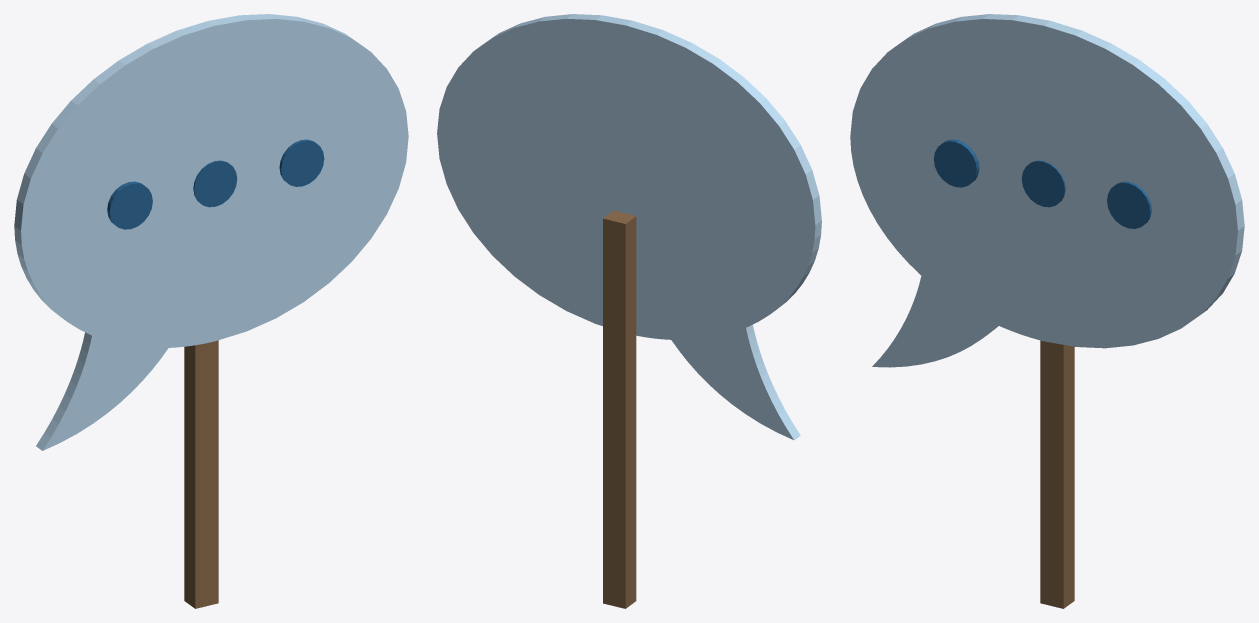
Rendered from bulle.glb.
The picture shows the model from 3 angles, left to right: view 1: azimuth 30°, elevation 25°; view 2: azimuth 150°, elevation 25°; view 3: azimuth 330°, elevation 25°; orthographic projection. The views are drawn at different scales.
Size of the model in its own units: 1 by 1.44 by 0.097.
